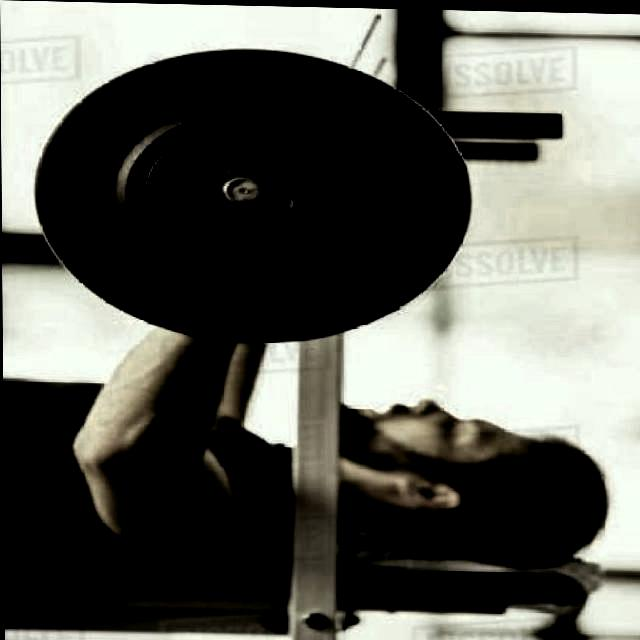barbell: (25, 46, 480, 359)
